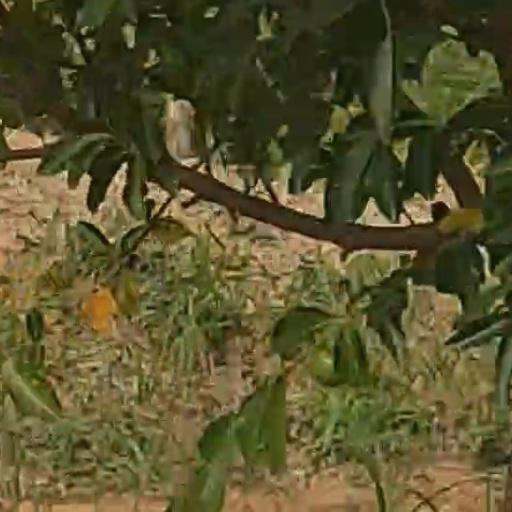acerola: (311, 349, 347, 386)
